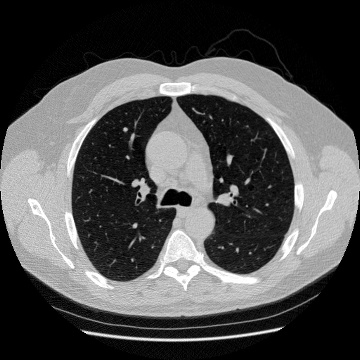PN: (122, 126, 128, 132)
